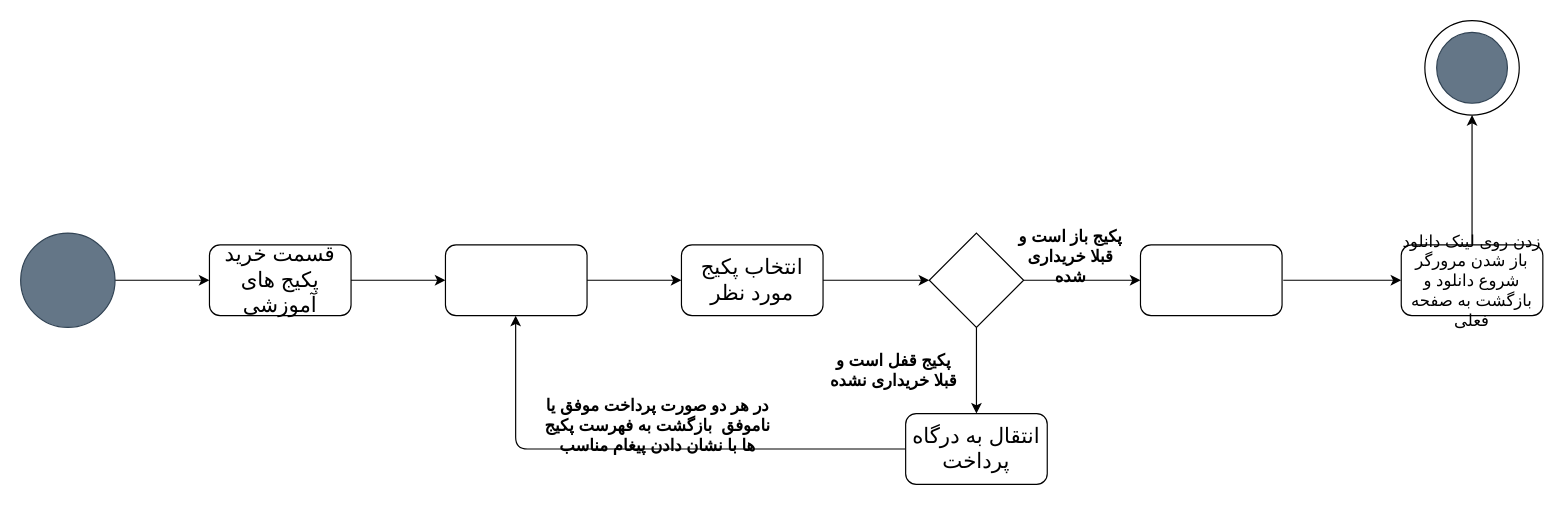
This 1563x505 diagram has some shape labels left out. Each missing label, with the box of its shape:
لینک دانلود تمام ویدیو ها و فهرست قابل مشاهده است: (1139, 244, 1282, 316)
مشاهده فهرست پکیج: (444, 244, 587, 316)
